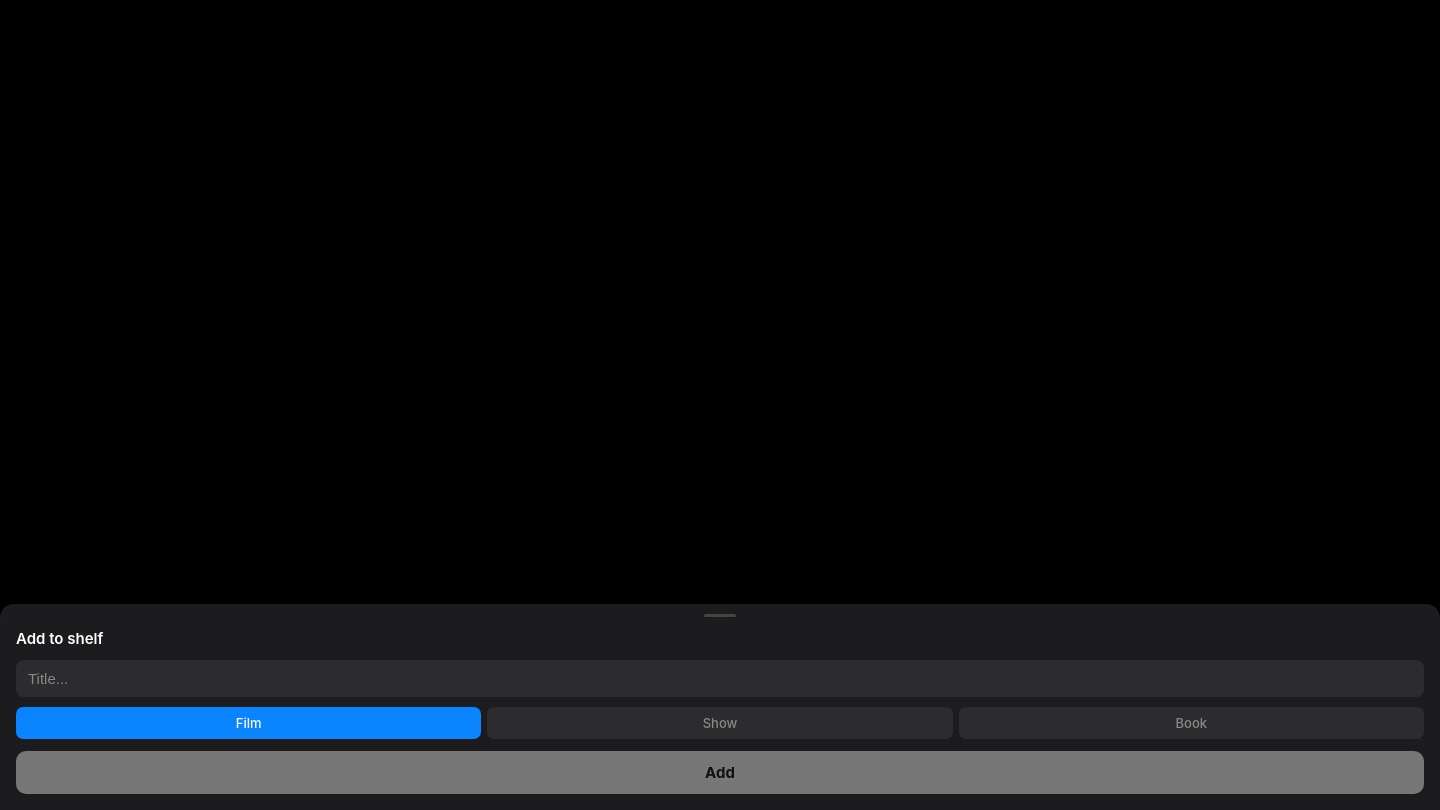
Test: AddSheet › shows error message on failed submit
The image size is (1440, 810).
Type "Unknown Movie" into the field with placeholder "Title..." at (720, 678), box top-left (16, 660), bottom-right (1424, 697)
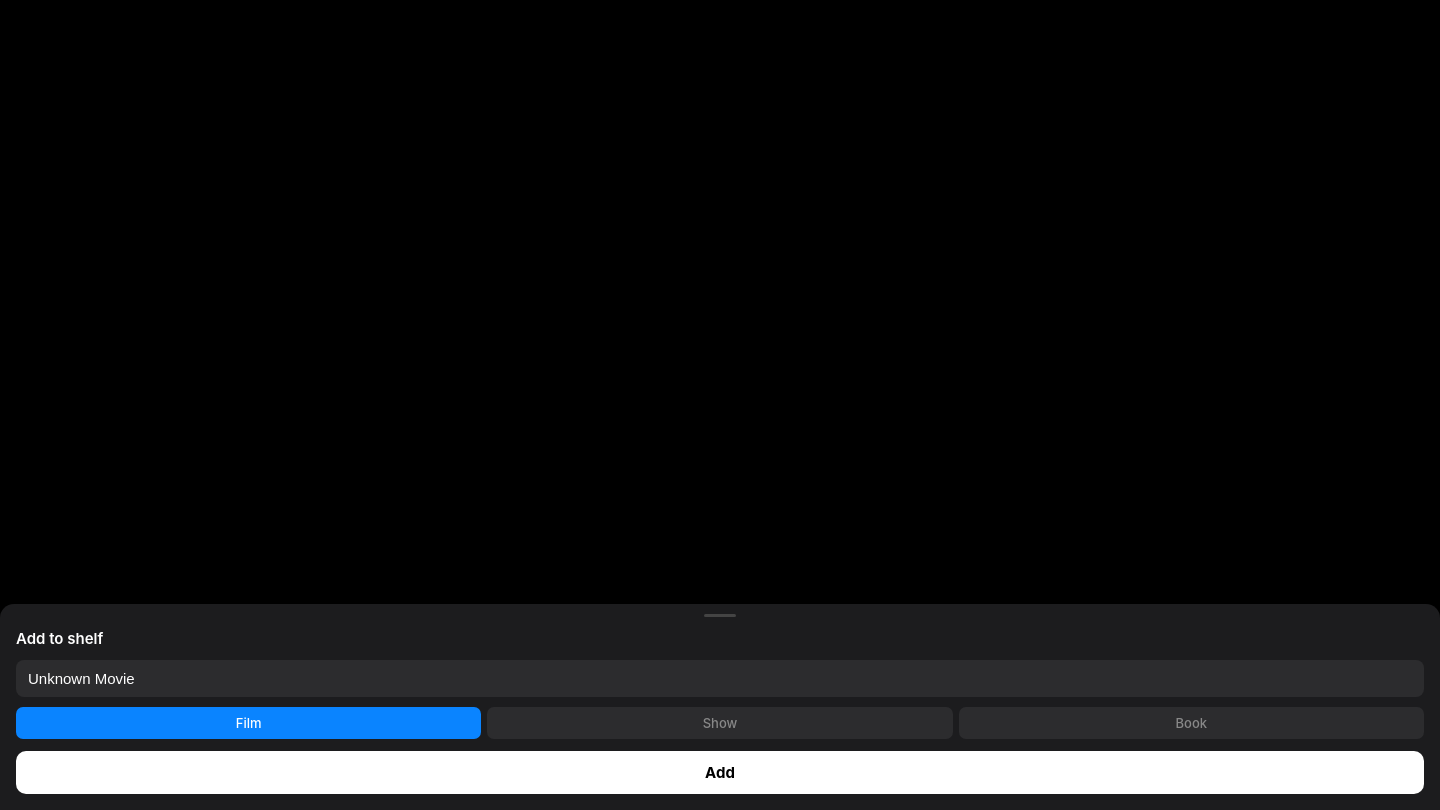
Click the button "Add" at (720, 772), box top-left (16, 751), bottom-right (1424, 794)
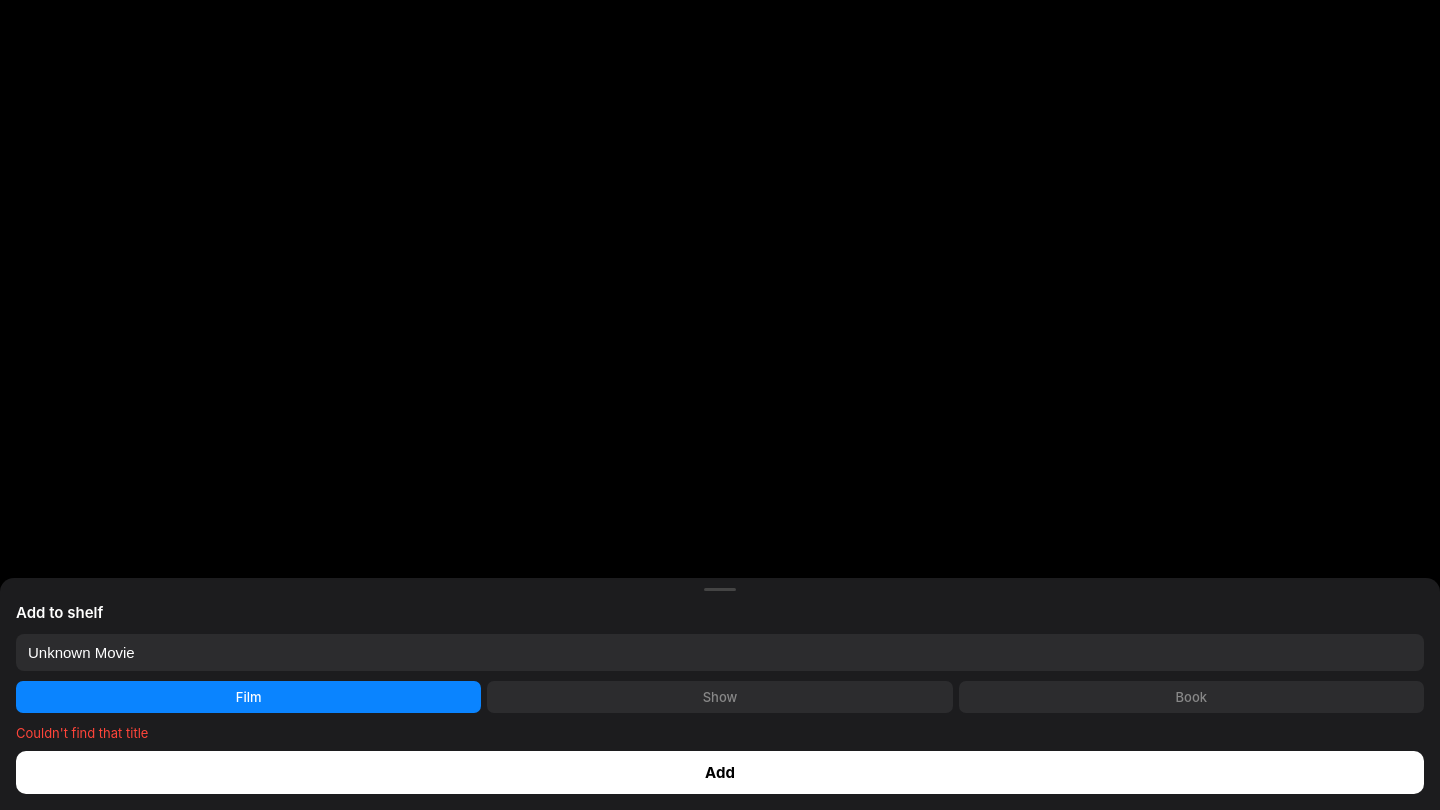
Now the text "Couldn't find that title" is shown, box top-left (16, 725), bottom-right (148, 741)
